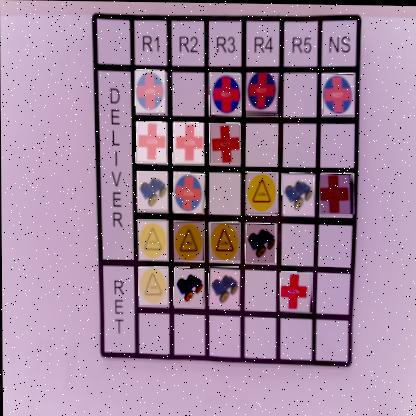OrderBlue: (246, 73, 281, 118), (210, 72, 244, 118), (136, 71, 167, 115), (323, 74, 356, 115), (174, 172, 206, 214)
OrderGurney: (283, 173, 316, 218), (209, 267, 242, 308), (246, 224, 277, 264), (138, 172, 169, 211), (175, 268, 206, 307)
OrderRed: (321, 174, 356, 215), (282, 272, 314, 314), (211, 123, 242, 165), (137, 123, 168, 165), (174, 123, 205, 165)
OrderYellow: (246, 172, 278, 215), (174, 221, 206, 262), (210, 223, 242, 262), (138, 220, 168, 261), (140, 268, 170, 307)
